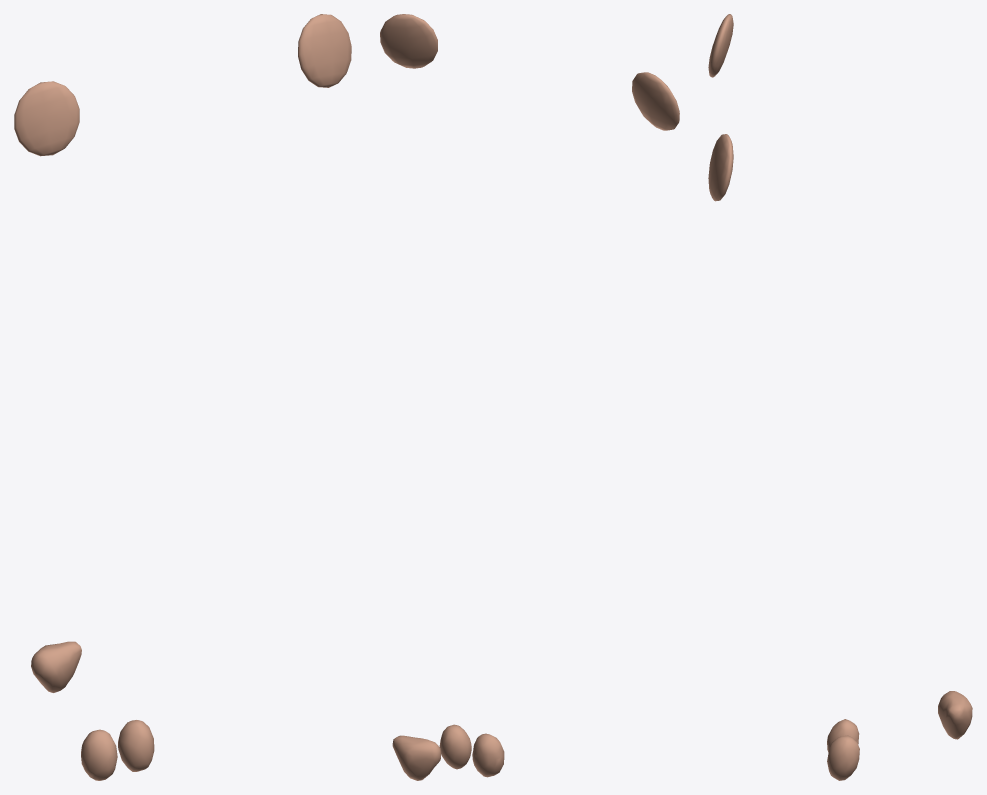
File: pediatric_infant_male.reproductive.LOD1.glb
The picture shows the model from 3 angles, left to right: view 1: azimuth 30°, elevation 25°; view 2: azimuth 150°, elevation 25°; view 3: azimuth 270°, elevation 25°; orthographic projection. The views are drawn at different scales.
Visible parts, largest first — view 1: PEDIATRIC.INFANT.MALE.REPRODUCTIVE.BREAST_ADIPOSE_TISSUE.R, PEDIATRIC.INFANT.MALE.REPRODUCTIVE.BREAST_ADIPOSE_TISSUE.L, PEDIATRIC.INFANT.MALE.REPRODUCTIVE.PROSTATE, PEDIATRIC.INFANT.MALE.REPRODUCTIVE.TESTIS.L, PEDIATRIC.INFANT.MALE.REPRODUCTIVE.TESTIS.R; view 2: PEDIATRIC.INFANT.MALE.REPRODUCTIVE.BREAST_ADIPOSE_TISSUE.L, PEDIATRIC.INFANT.MALE.REPRODUCTIVE.BREAST_ADIPOSE_TISSUE.R, PEDIATRIC.INFANT.MALE.REPRODUCTIVE.PROSTATE, PEDIATRIC.INFANT.MALE.REPRODUCTIVE.TESTIS.R, PEDIATRIC.INFANT.MALE.REPRODUCTIVE.TESTIS.L; view 3: PEDIATRIC.INFANT.MALE.REPRODUCTIVE.BREAST_ADIPOSE_TISSUE.L, PEDIATRIC.INFANT.MALE.REPRODUCTIVE.PROSTATE, PEDIATRIC.INFANT.MALE.REPRODUCTIVE.TESTIS.L, PEDIATRIC.INFANT.MALE.REPRODUCTIVE.BREAST_ADIPOSE_TISSUE.R, PEDIATRIC.INFANT.MALE.REPRODUCTIVE.TESTIS.R.
Part boxes in pixels (x1,y1,x2,y2): PEDIATRIC.INFANT.MALE.REPRODUCTIVE.BREAST_ADIPOSE_TISSUE.R: (14, 81, 79, 156); PEDIATRIC.INFANT.MALE.REPRODUCTIVE.BREAST_ADIPOSE_TISSUE.L: (298, 14, 351, 87); PEDIATRIC.INFANT.MALE.REPRODUCTIVE.PROSTATE: (31, 641, 81, 692); PEDIATRIC.INFANT.MALE.REPRODUCTIVE.TESTIS.L: (118, 720, 154, 771); PEDIATRIC.INFANT.MALE.REPRODUCTIVE.TESTIS.R: (81, 729, 117, 780); PEDIATRIC.INFANT.MALE.REPRODUCTIVE.BREAST_ADIPOSE_TISSUE.L: (380, 14, 437, 68); PEDIATRIC.INFANT.MALE.REPRODUCTIVE.BREAST_ADIPOSE_TISSUE.R: (632, 72, 679, 130); PEDIATRIC.INFANT.MALE.REPRODUCTIVE.PROSTATE: (392, 735, 440, 780); PEDIATRIC.INFANT.MALE.REPRODUCTIVE.TESTIS.R: (472, 733, 504, 777); PEDIATRIC.INFANT.MALE.REPRODUCTIVE.TESTIS.L: (439, 724, 471, 769); PEDIATRIC.INFANT.MALE.REPRODUCTIVE.BREAST_ADIPOSE_TISSUE.L: (708, 134, 733, 201); PEDIATRIC.INFANT.MALE.REPRODUCTIVE.PROSTATE: (938, 691, 972, 739); PEDIATRIC.INFANT.MALE.REPRODUCTIVE.TESTIS.L: (827, 735, 859, 780); PEDIATRIC.INFANT.MALE.REPRODUCTIVE.BREAST_ADIPOSE_TISSUE.R: (708, 14, 733, 77); PEDIATRIC.INFANT.MALE.REPRODUCTIVE.TESTIS.R: (827, 719, 859, 752).
Size of the model in its own units: 0.1074 by 0.2355 by 0.0812.
